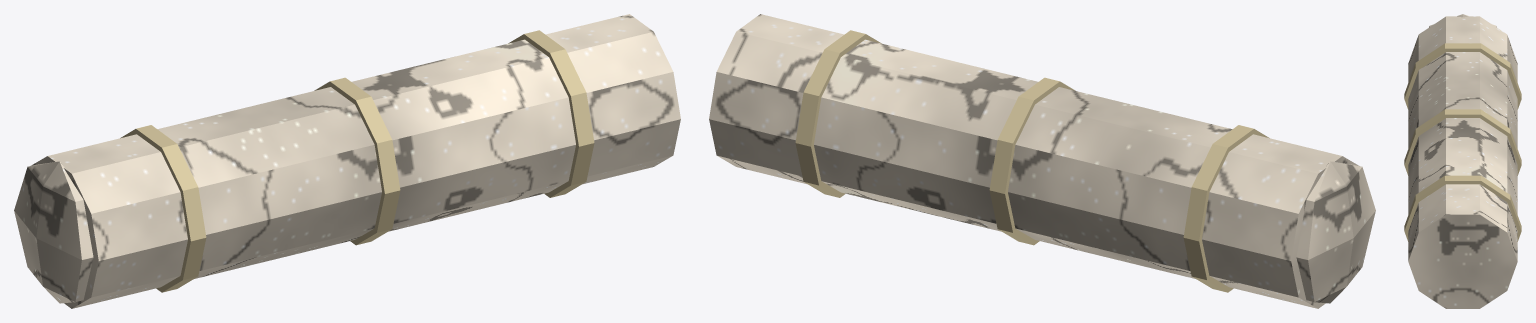
File: p_salame.obj
3 renders of one model, left to right at view 1: azimuth 30°, elevation 25°; view 2: azimuth 150°, elevation 25°; view 3: azimuth 270°, elevation 25°, orthographic. The views are drawn at different scales.
Parts seen in each view (by area): view 1: crosta_000, liscio_001; view 2: crosta_000, liscio_001; view 3: crosta_000, liscio_001.
Boxes of the visible parts, box(x1,y1,x2,y2) form: crosta_000: box(14, 14, 680, 308); liscio_001: box(120, 30, 594, 292); crosta_000: box(709, 14, 1375, 308); liscio_001: box(795, 30, 1269, 292); crosta_000: box(1408, 14, 1517, 308); liscio_001: box(1404, 43, 1521, 241).
Bounding box in the file's own units: 0.312 × 0.0714 × 0.075.
2 materials, 1 textured.
